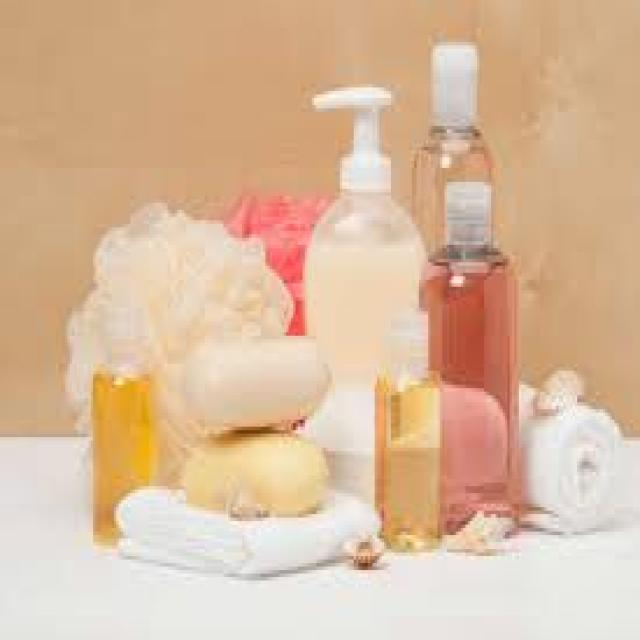liquid soap: (294, 70, 430, 560), (422, 162, 526, 542), (398, 44, 498, 380), (369, 302, 451, 550), (88, 291, 161, 565)
